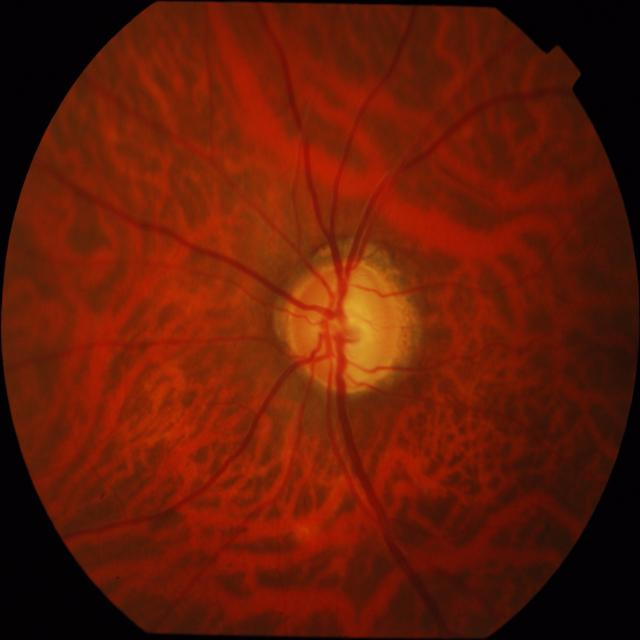OC: (330, 297, 378, 352)
OD: (288, 259, 403, 394)
